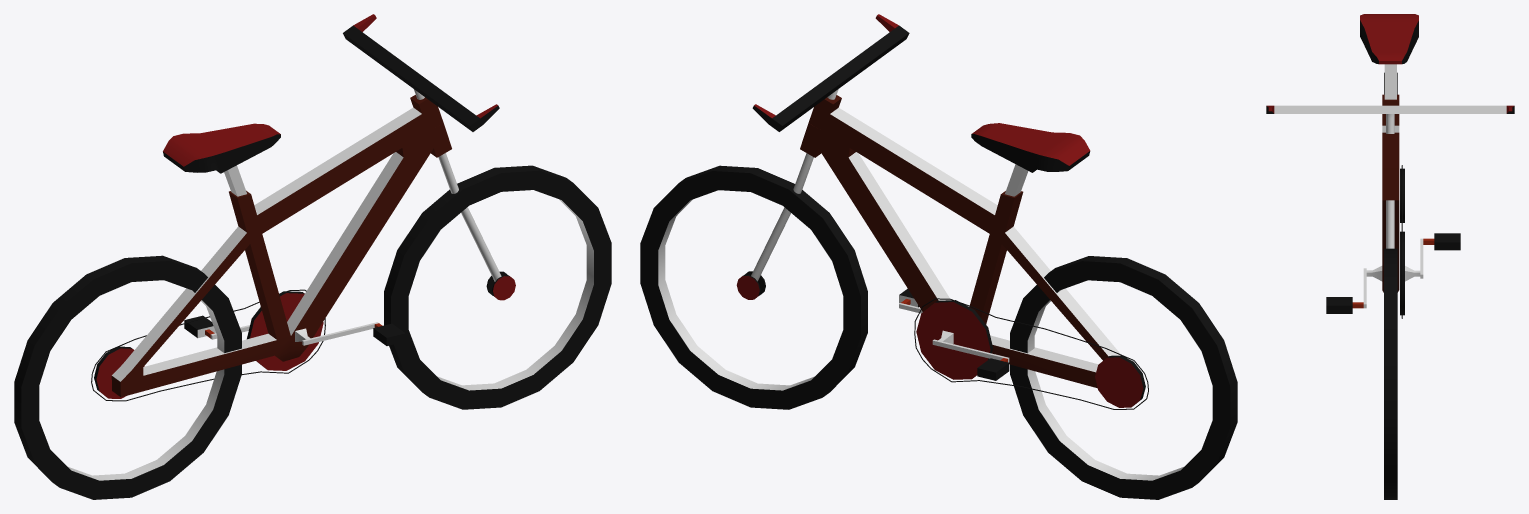
File: Bike_M_v1_Carrie.FBX
3 renders of one model, left to right at view 1: azimuth 30°, elevation 25°; view 2: azimuth 150°, elevation 25°; view 3: azimuth 270°, elevation 25°, orthographic. The views are drawn at different scales.
Parts seen in each view (by area): view 1: bike; view 2: bike; view 3: bike.
Boxes of the visible parts, left/top/right/bottom form: bike: left=14, top=14, right=611, bottom=499; bike: left=640, top=14, right=1237, bottom=499; bike: left=1266, top=14, right=1514, bottom=499.
Bounding box in the file's own units: 665 × 388 × 248.
